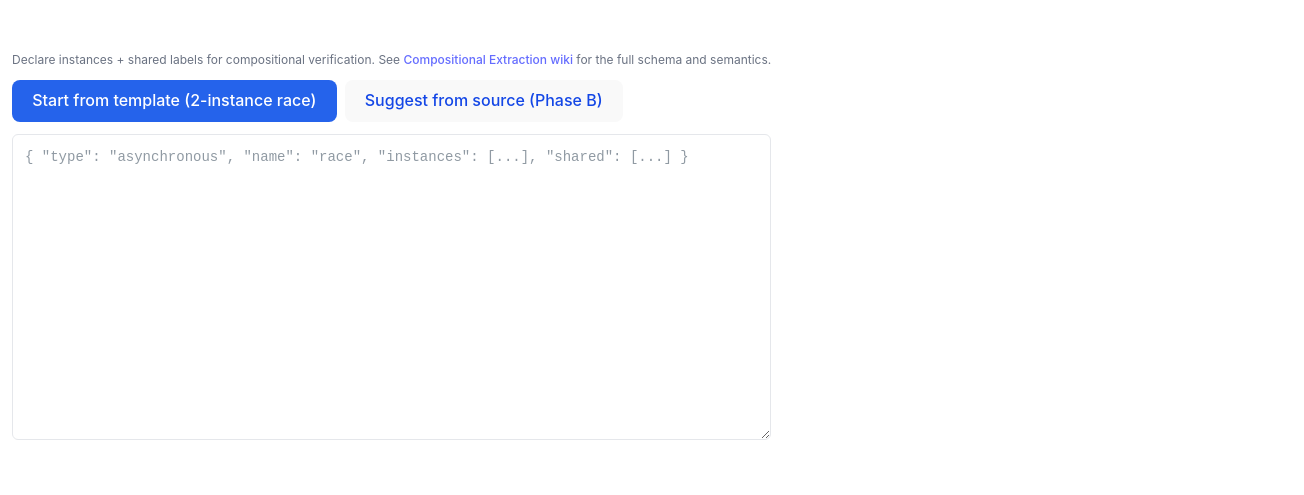
Test: CompositionEditor › translates an ECONNABORTED timeout into actionable guidance
Click the button with aria-label "Suggest composition from source": {"x": 484, "y": 101} left=345, top=80, right=623, bottom=122
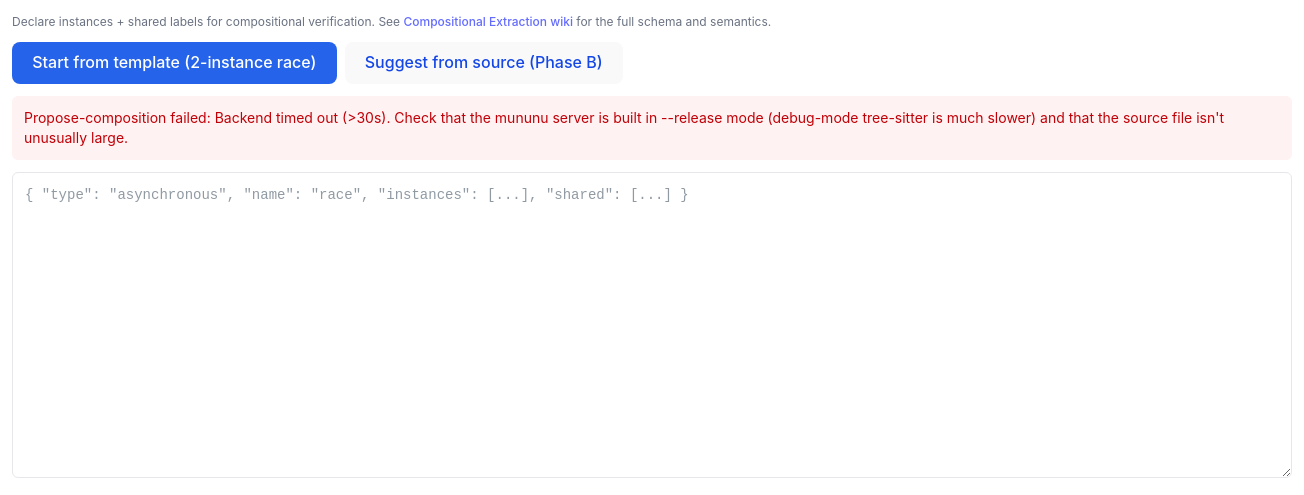
Check: the text "--release mode" is shown, box left=24, top=109, right=1224, bottom=146
